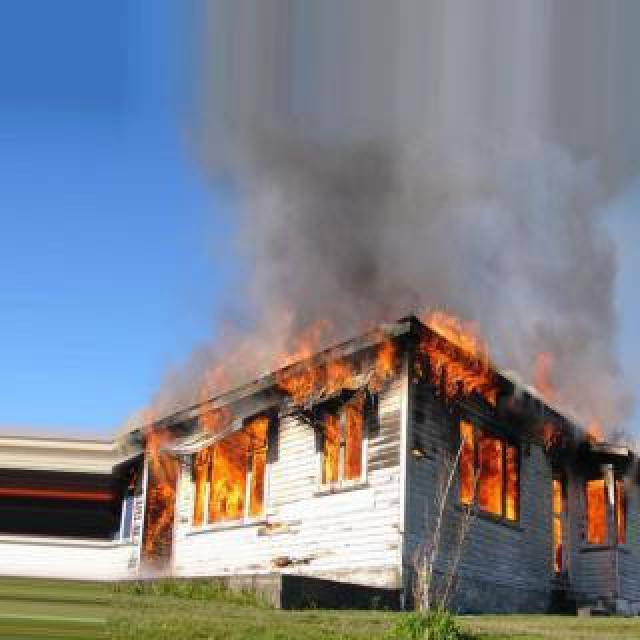Fire: (184, 386, 266, 538), (280, 312, 400, 414), (414, 310, 510, 404), (132, 414, 178, 566), (454, 420, 518, 526), (580, 462, 622, 558), (320, 416, 366, 488), (530, 346, 556, 410), (550, 478, 566, 580), (534, 422, 568, 456)
Smoke: (167, 208, 630, 398)
